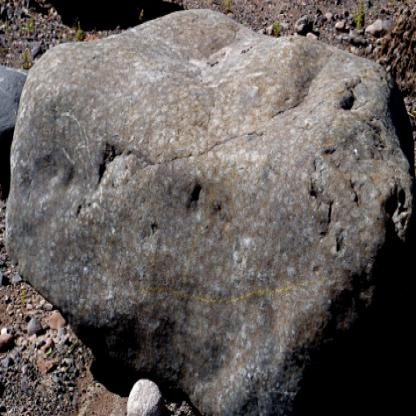Igneous_Basalt: (1, 3, 408, 414)
